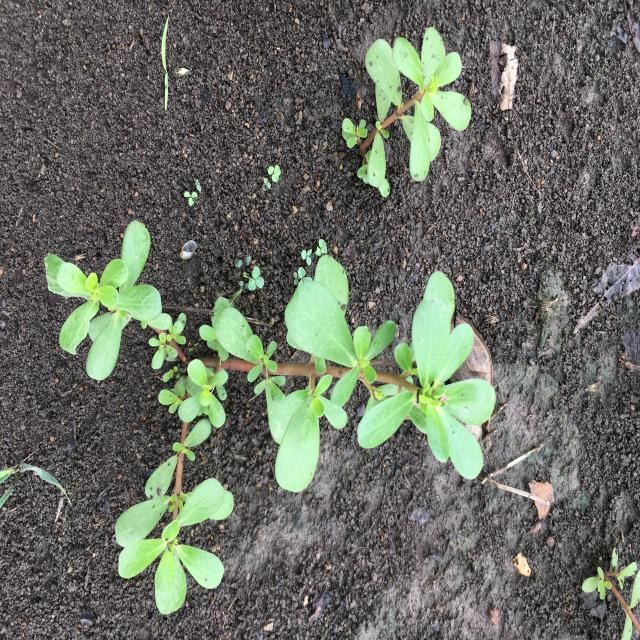Purslane: (44, 220, 497, 614), (342, 27, 472, 197), (582, 547, 640, 640)
